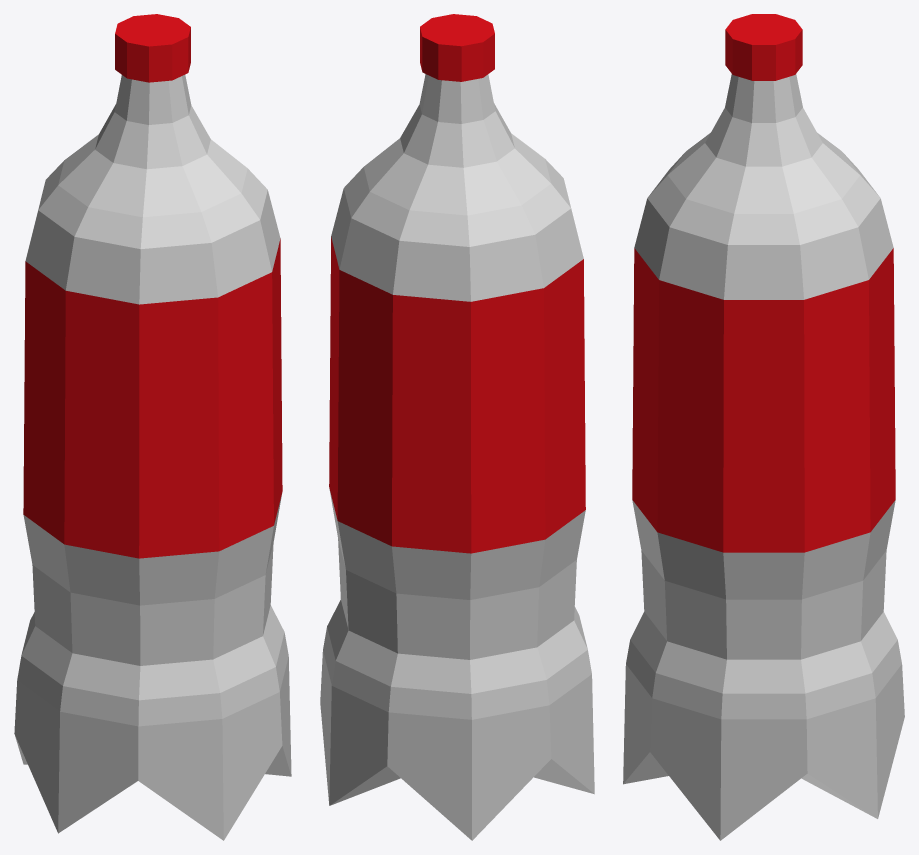
Rendered from plaxticfles.fbx.
The picture shows the model from 3 angles, left to right: view 1: azimuth 30°, elevation 25°; view 2: azimuth 150°, elevation 25°; view 3: azimuth 270°, elevation 25°; orthographic projection.
Parts seen in each view (by area): view 1: Cylinder, Cylinder.001; view 2: Cylinder, Cylinder.001; view 3: Cylinder, Cylinder.001.
Part boxes in pixels (bbox=[...]): Cylinder: bbox=[14, 75, 291, 840]; Cylinder.001: bbox=[23, 14, 282, 558]; Cylinder: bbox=[320, 74, 594, 840]; Cylinder.001: bbox=[329, 14, 585, 553]; Cylinder: bbox=[623, 74, 904, 840]; Cylinder.001: bbox=[632, 14, 895, 552].
Bounding box in the file's own units: 0.1014 × 0.315 × 0.1066.
